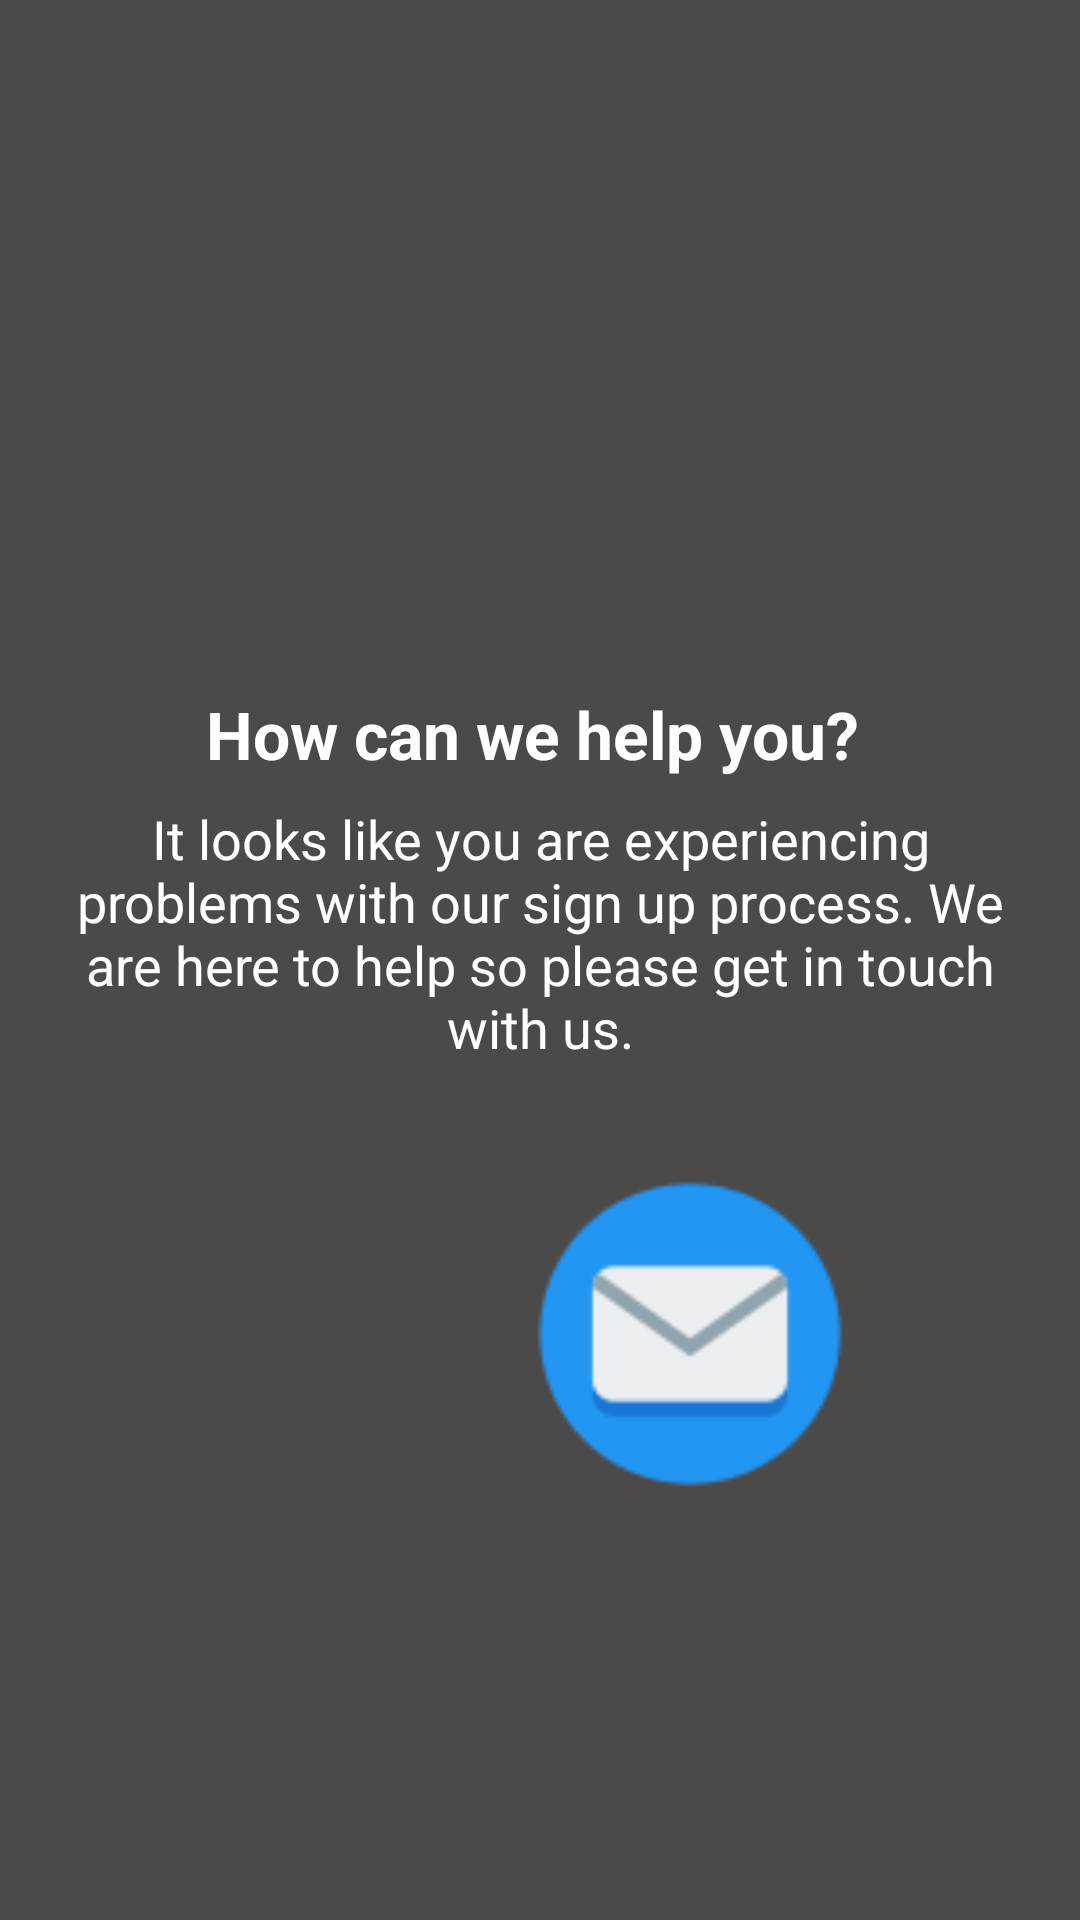

Icons on this 1080w x 1920h Android screen, each with its box as (x1, y1, x2, y2):
email: (538, 1182, 842, 1486)
